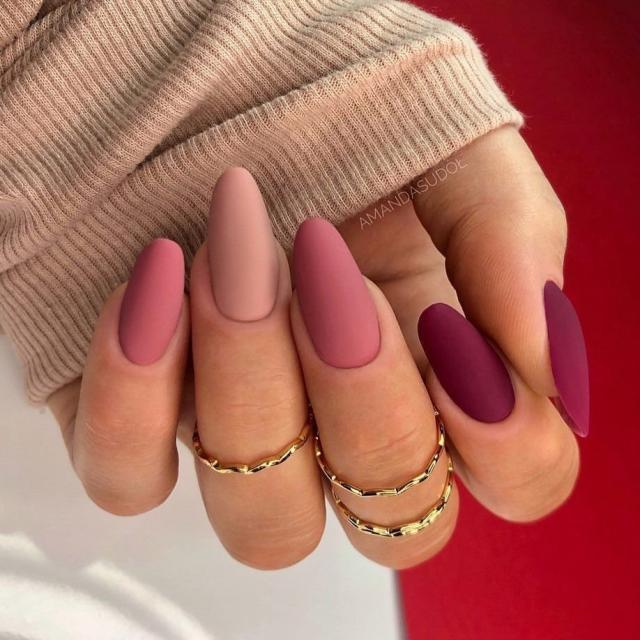Nail: (294, 219, 380, 368), (418, 304, 515, 422), (208, 168, 281, 322), (119, 239, 185, 364), (544, 281, 590, 437)
